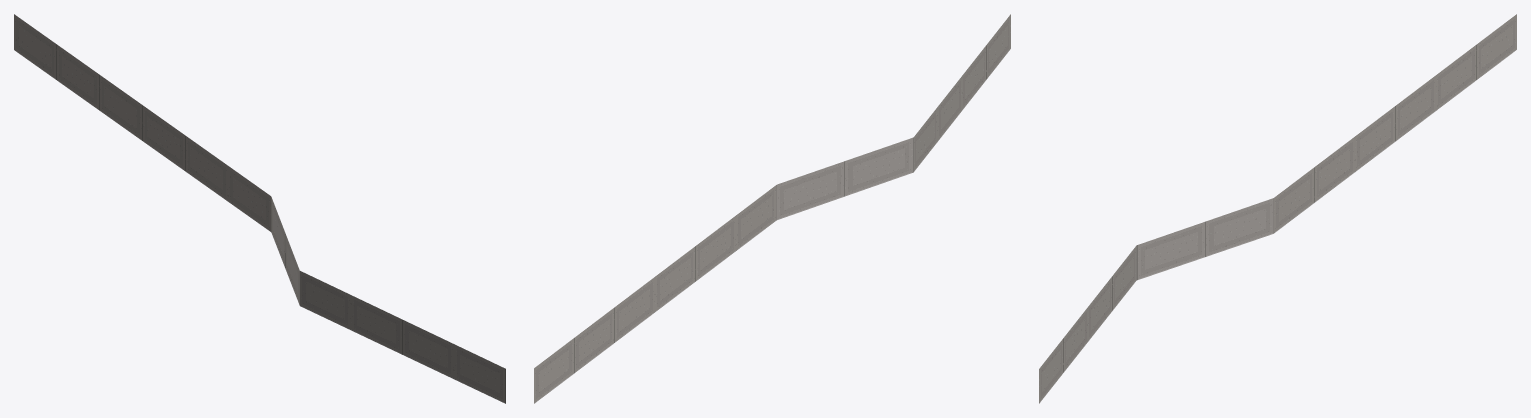
Rendered from kd_stage_13612f_0_18.glb.
3 views of the same model, side by side, from view 1: azimuth 30°, elevation 25°; view 2: azimuth 150°, elevation 25°; view 3: azimuth 330°, elevation 25° (orthographic).
Parts seen in each view (by area): view 1: kd_stage_13612f_0_18; view 2: kd_stage_13612f_0_18; view 3: kd_stage_13612f_0_18.
Boxes of the visible parts, <box> form: kd_stage_13612f_0_18: <box>14,14,505,403</box>; kd_stage_13612f_0_18: <box>534,14,1010,403</box>; kd_stage_13612f_0_18: <box>1039,14,1516,403</box>.
Size of the model in its own units: 1.59 by 1 by 24.46.
1 material, 1 textured.
